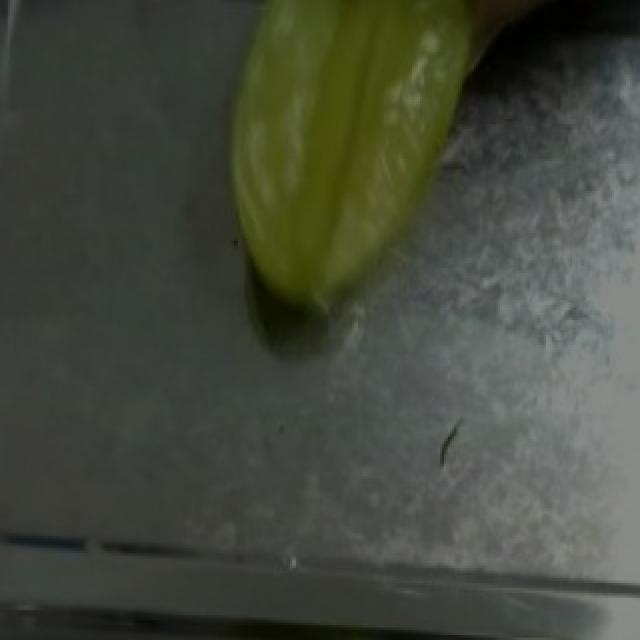fruit: (198, 0, 530, 337)
